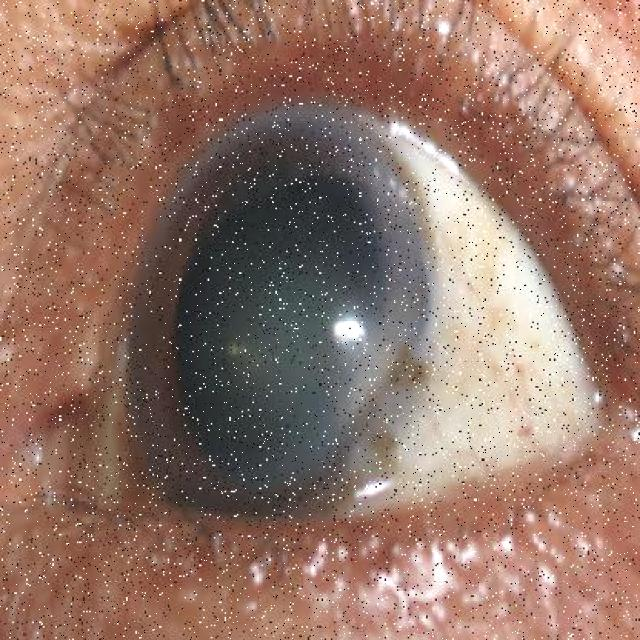Cataract: (123, 85, 440, 512)
